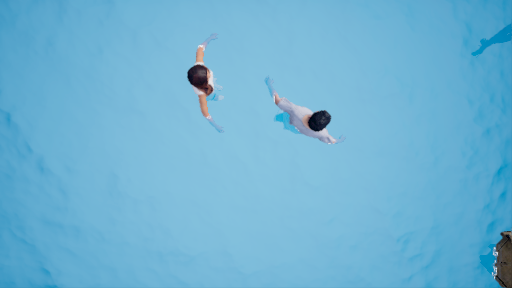person: (256, 71, 350, 153), (185, 30, 236, 136)
